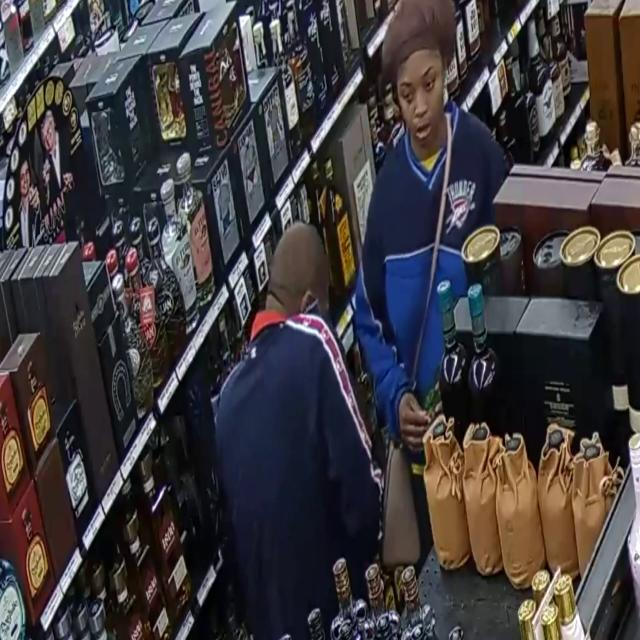Product: (391, 396, 446, 492)
shoplifting: (337, 0, 540, 557), (180, 220, 380, 640)
